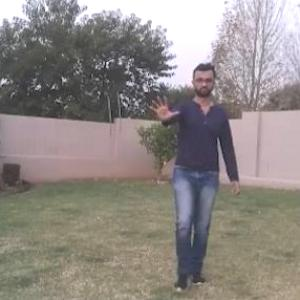follow_hand: (144, 91, 183, 125)
